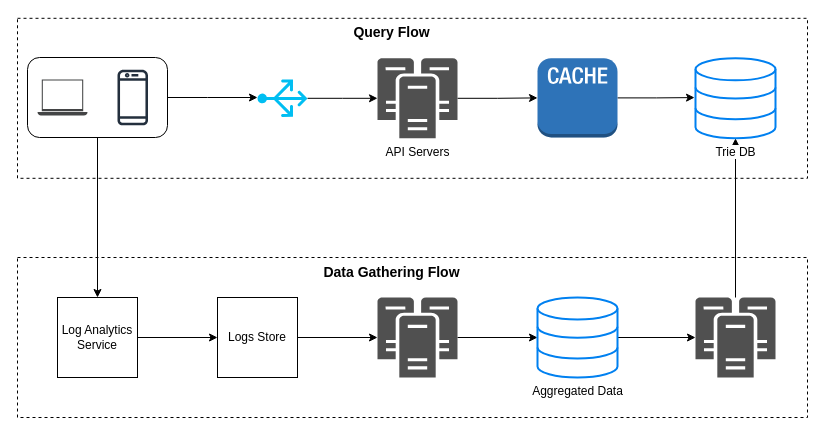
Image size: 825x435. Some labels were removed from this diagram. The centre of each missing label's shape, as x and y in pixels:
Aggregators: the point at 417,337
Trie Cache: the point at 577,97
Workers: the point at 735,337
